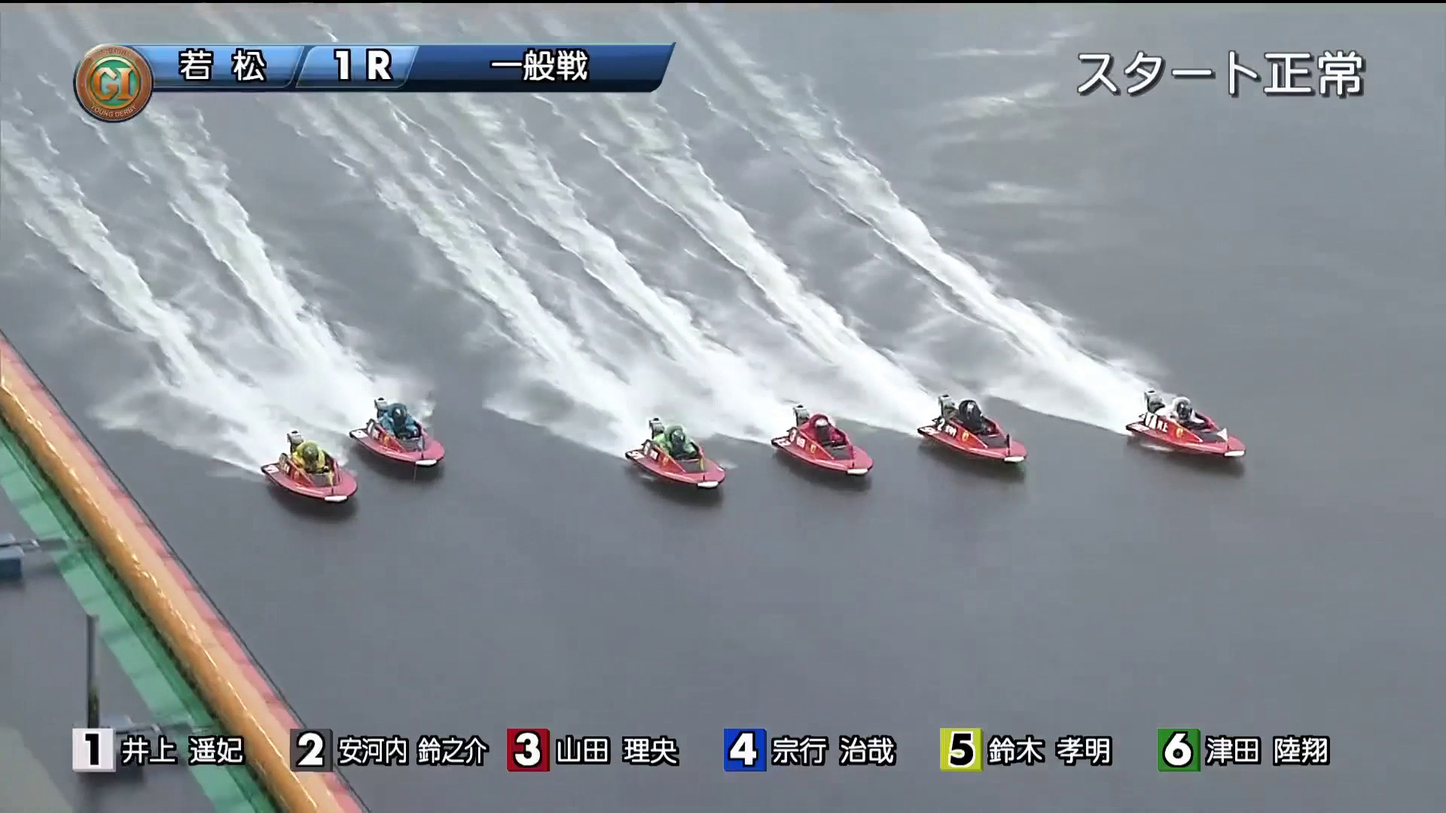１号艇: (1144, 378, 1249, 425)
２号艇: (929, 390, 1034, 436)
３号艇: (773, 425, 883, 467)
４号艇: (629, 431, 739, 483)
５号艇: (343, 405, 464, 460)
６号艇: (279, 461, 378, 517)
